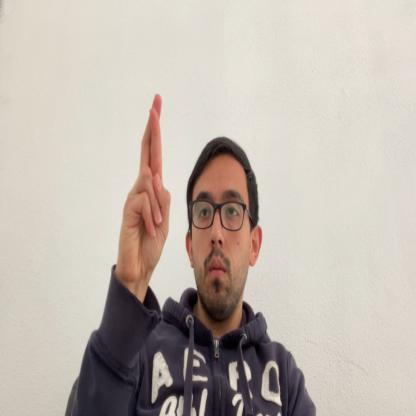R: (118, 92, 173, 278)
